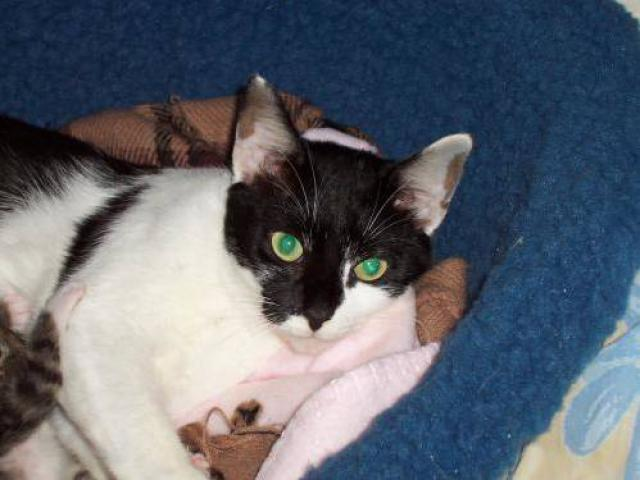cat: (10, 77, 493, 478)
